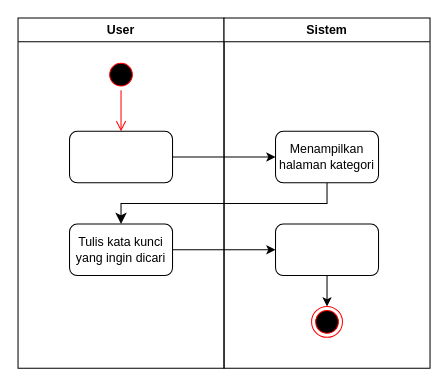
Image size: 448x386. Some labels were removed from this diagram. Each missing label, with the centre of its shape:
Membuka halaman kategori: the point at 120,156
Menampilkan hasil pencarian: the point at 326,249
